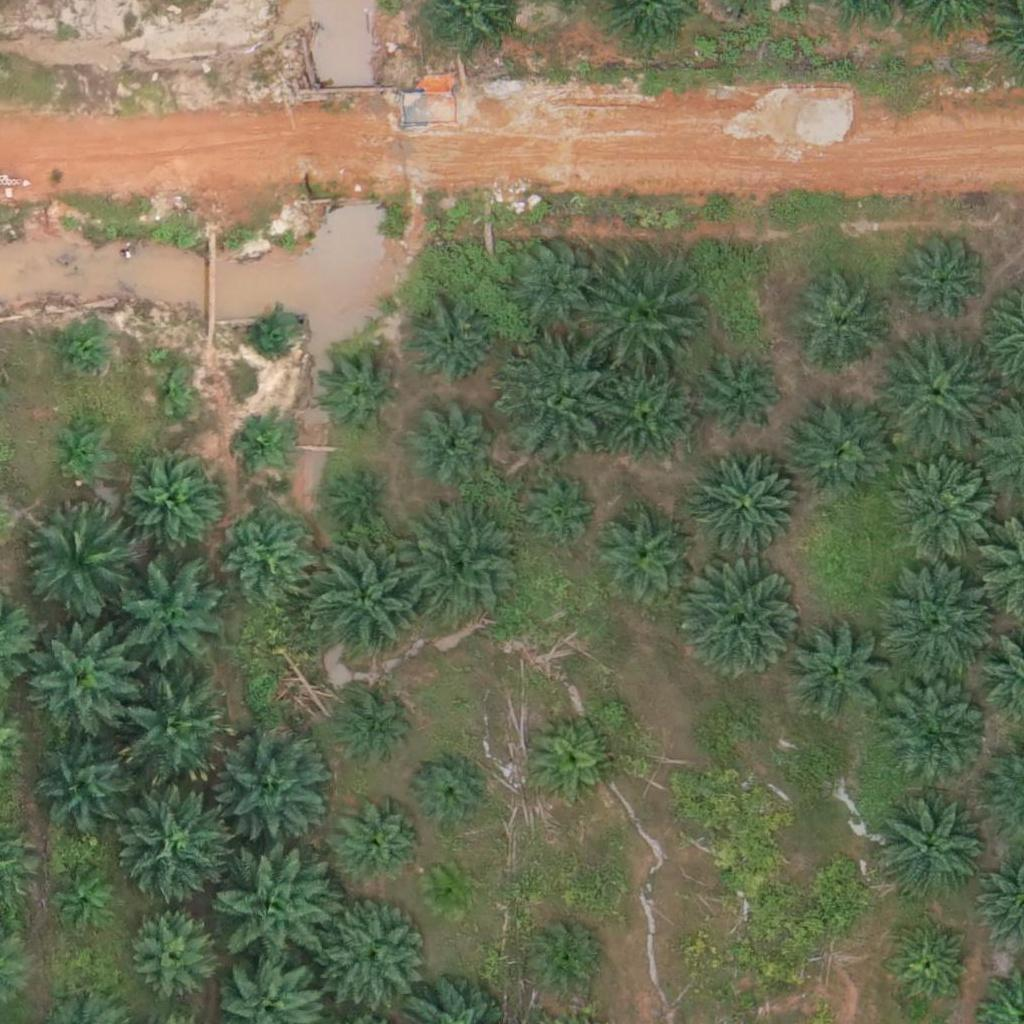Kelapa_Sawit: (877, 793, 990, 907), (680, 565, 793, 679), (406, 514, 519, 628), (888, 456, 1001, 569), (877, 679, 990, 792), (311, 537, 424, 650), (214, 853, 327, 966), (110, 561, 223, 674), (123, 794, 236, 907), (19, 501, 132, 614), (24, 633, 137, 746), (212, 727, 324, 841), (886, 335, 998, 448), (883, 571, 995, 684), (691, 451, 803, 564), (588, 264, 700, 377), (498, 343, 610, 456), (315, 903, 427, 1016), (121, 678, 233, 791), (892, 229, 992, 330), (786, 617, 886, 718), (787, 402, 887, 503), (594, 362, 694, 463), (500, 229, 600, 330), (30, 740, 130, 841), (791, 279, 891, 379), (595, 504, 695, 604), (126, 453, 226, 553), (130, 912, 218, 1000), (406, 300, 493, 389), (883, 922, 970, 1010), (700, 353, 787, 441), (513, 470, 600, 558), (406, 399, 493, 487), (222, 503, 309, 591), (316, 347, 403, 435), (526, 720, 613, 808), (343, 806, 418, 882), (410, 758, 485, 834), (334, 684, 409, 759), (527, 920, 602, 995), (53, 867, 116, 930), (238, 416, 288, 467), (421, 866, 471, 916), (245, 306, 295, 356), (336, 475, 386, 525), (148, 369, 198, 419), (56, 323, 106, 373), (51, 426, 101, 476)
